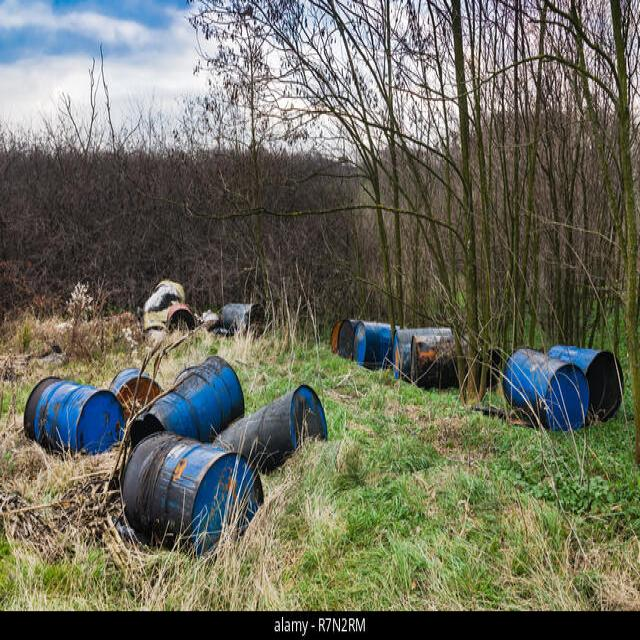metal: (101, 376, 278, 534), (509, 346, 606, 427)
